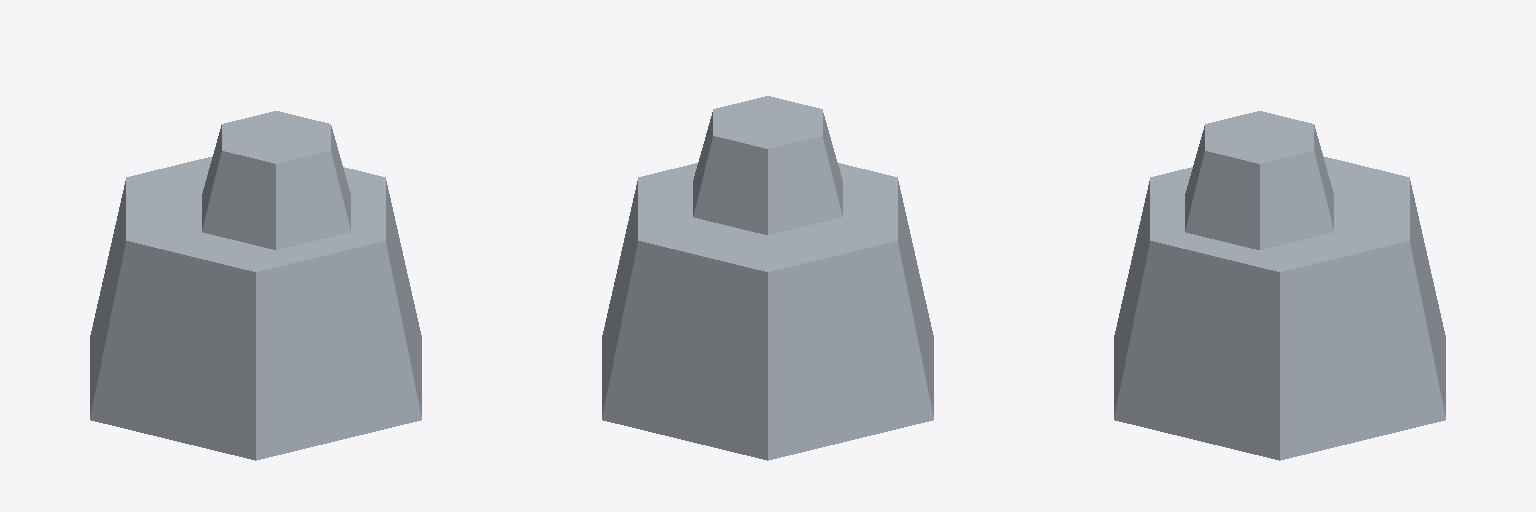
The model's file is Rock_2_01.obj.
3 views of the same model, side by side, from view 1: azimuth 30°, elevation 25°; view 2: azimuth 150°, elevation 25°; view 3: azimuth 270°, elevation 25° (orthographic).
Parts seen in each view (by area): view 1: Mesh1_Rock_2_Model; view 2: Mesh1_Rock_2_Model; view 3: Mesh1_Rock_2_Model.
Boxes of the visible parts, box(x1,y1,x2,y2) form: Mesh1_Rock_2_Model: box(90, 111, 421, 460); Mesh1_Rock_2_Model: box(602, 96, 933, 460); Mesh1_Rock_2_Model: box(1114, 111, 1445, 460).
Size of the model in its own units: 1 by 0.71 by 0.866.